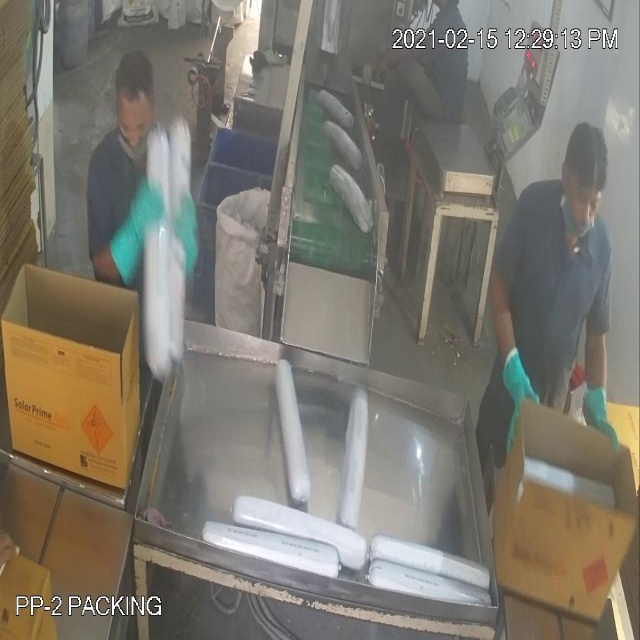Guantes: (98, 180, 166, 282), (501, 337, 546, 430), (582, 371, 626, 460)
Sin_guantes: (376, 33, 442, 80)
